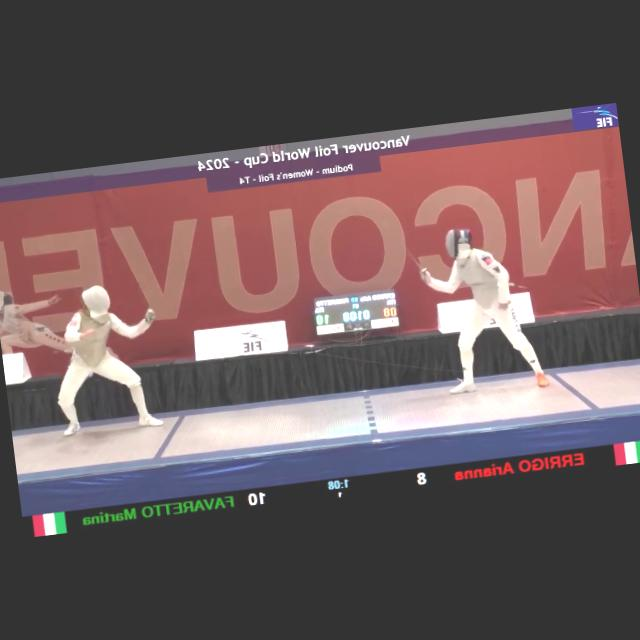blade: (398, 233, 428, 280)
